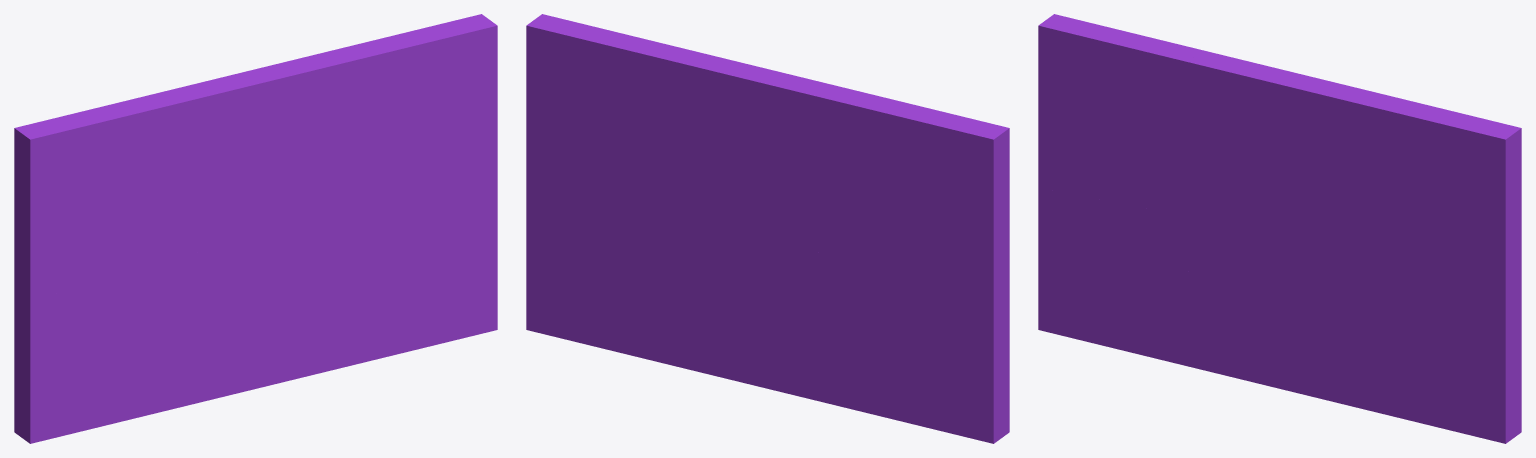
File: Barrier_217_chunks.fbx
3 views of the same model, side by side, from view 1: azimuth 30°, elevation 25°; view 2: azimuth 150°, elevation 25°; view 3: azimuth 330°, elevation 25° (orthographic).
Visible parts, largest first — view 1: Barrier_217_1, Barrier_217_8, Barrier_217_4, Barrier_217_9, Barrier_217_3, Barrier_217_5, Barrier_217_7, Barrier_217_0, Barrier_217_2; view 2: Barrier_217_1, Barrier_217_8, Barrier_217_4, Barrier_217_2, Barrier_217_9, Barrier_217_6, Barrier_217_3, Barrier_217_7, Barrier_217_5; view 3: Barrier_217_1, Barrier_217_8, Barrier_217_4, Barrier_217_9, Barrier_217_3, Barrier_217_5, Barrier_217_7, Barrier_217_0, Barrier_217_2.
Part boxes in pixels (left/top/right/bottom): Barrier_217_1: left=296, top=14, right=497, bottom=362; Barrier_217_8: left=14, top=90, right=184, bottom=301; Barrier_217_4: left=14, top=263, right=182, bottom=443; Barrier_217_9: left=169, top=52, right=348, bottom=203; Barrier_217_3: left=85, top=319, right=320, bottom=430; Barrier_217_5: left=163, top=239, right=318, bottom=323; Barrier_217_7: left=63, top=182, right=267, bottom=291; Barrier_217_0: left=245, top=120, right=321, bottom=271; Barrier_217_2: left=244, top=304, right=360, bottom=372; Barrier_217_1: left=526, top=14, right=763, bottom=365; Barrier_217_8: left=831, top=93, right=1009, bottom=303; Barrier_217_4: left=833, top=261, right=1009, bottom=443; Barrier_217_2: left=672, top=273, right=848, bottom=392; Barrier_217_9: left=681, top=50, right=864, bottom=161; Barrier_217_6: left=728, top=159, right=852, bottom=245; Barrier_217_3: left=782, top=349, right=914, bottom=424; Barrier_217_7: left=795, top=210, right=938, bottom=287; Barrier_217_5: left=738, top=237, right=846, bottom=298; Barrier_217_1: left=1304, top=90, right=1521, bottom=443; Barrier_217_8: left=1038, top=14, right=1208, bottom=193; Barrier_217_4: left=1038, top=187, right=1190, bottom=343; Barrier_217_9: left=1182, top=52, right=1366, bottom=205; Barrier_217_3: left=1093, top=279, right=1328, bottom=400; Barrier_217_5: left=1171, top=213, right=1326, bottom=330; Barrier_217_7: left=1071, top=143, right=1275, bottom=229; Barrier_217_0: left=1253, top=148, right=1329, bottom=287; Barrier_217_2: left=1252, top=314, right=1369, bottom=410.
Bounding box in the file's own units: 462 × 288 × 27.2.
